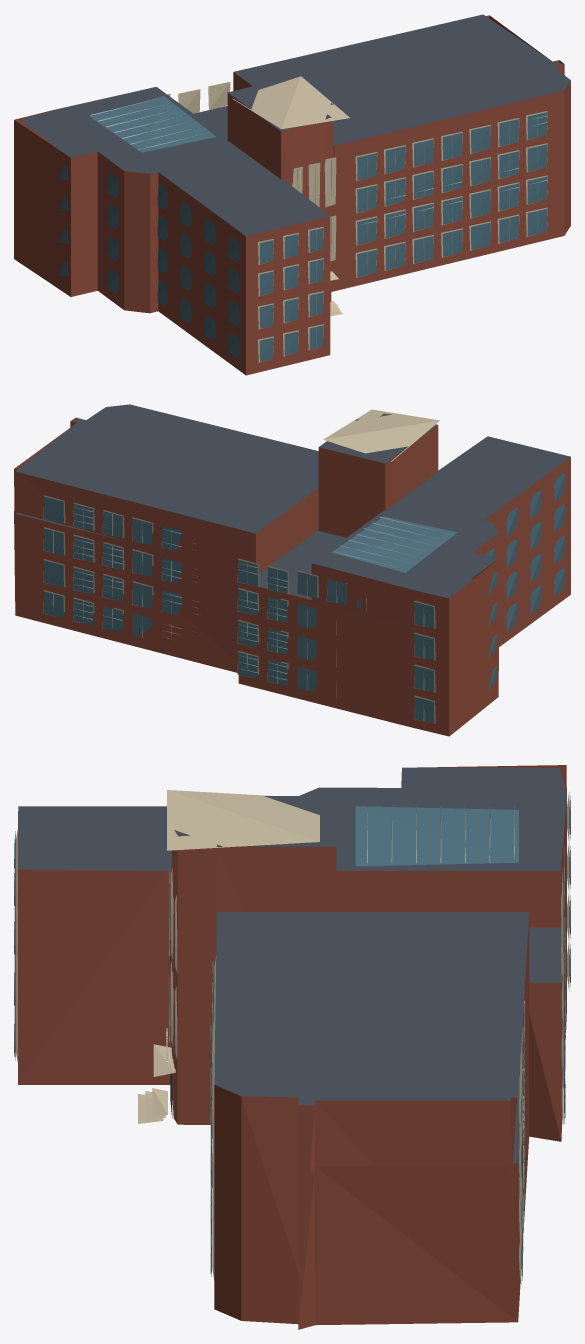
The model's file is lab111.lod1.glb.
The picture shows the model from 3 angles, top to bottom: view 1: azimuth 30°, elevation 25°; view 2: azimuth 150°, elevation 25°; view 3: azimuth 270°, elevation 25°; orthographic projection. The views are drawn at different scales.
Parts seen in each view (by area): view 1: lab111; view 2: lab111; view 3: lab111.
Part boxes in pixels (x1=…): lab111: x1=14, y1=14, x2=570, y2=375; lab111: x1=14, y1=404, x2=570, y2=736; lab111: x1=14, y1=765, x2=570, y2=1329.
Size of the model in its own units: 55.8 by 21.9 by 37.53.
